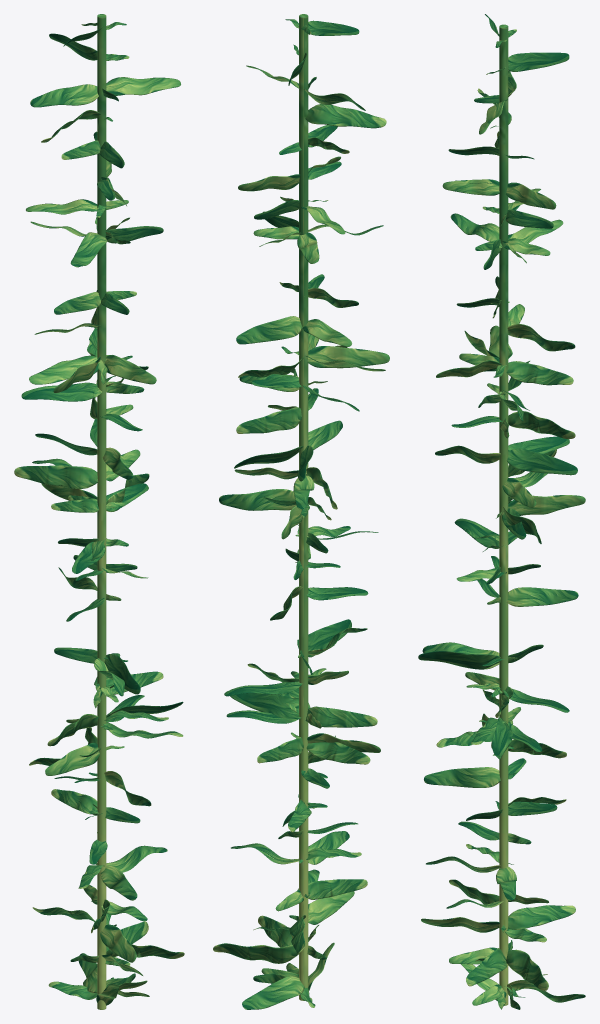
File: SeaWeed.fbx
3 renders of one model, left to right at view 1: azimuth 30°, elevation 25°; view 2: azimuth 150°, elevation 25°; view 3: azimuth 270°, elevation 25°, orthographic.
Visible parts, largest first — view 1: Cylinder; view 2: Cylinder; view 3: Cylinder.
Boxes of the visible parts, left/top/right/bottom form: Cylinder: left=14, top=14, right=184, bottom=1009; Cylinder: left=213, top=14, right=389, bottom=1009; Cylinder: left=418, top=14, right=585, bottom=1009.
Size of the model in its own units: 786 by 4789 by 744.
